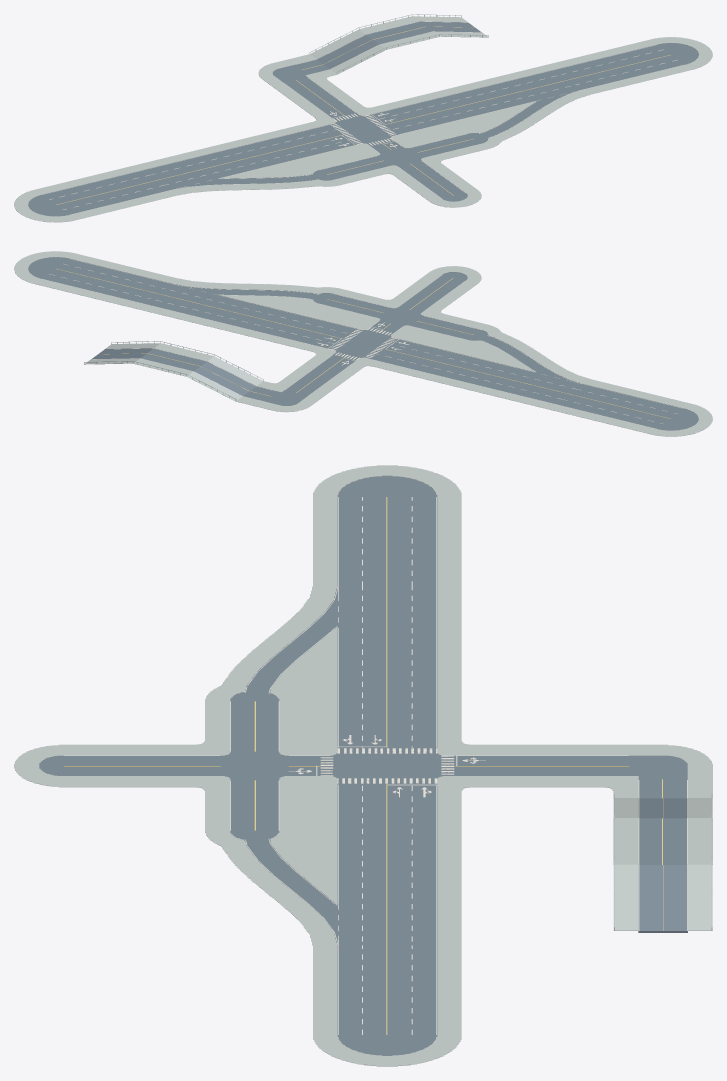
The model's file is network-w59-s59.glb.
3 views of the same model, one above another, from view 1: azimuth 30°, elevation 25°; view 2: azimuth 150°, elevation 25°; view 3: azimuth 270°, elevation 25° (orthographic). The views are drawn at different scales.
Parts seen in each view (by area): view 1: Road_surface, Sidewalks, Lane_markings, Ramp_surface, Crosswalks, Bridge_railings; view 2: Road_surface, Sidewalks, Lane_markings, Ramp_surface, Crosswalks, Bridge_railings; view 3: Road_surface, Sidewalks, Lane_markings, Ramp_surface, Crosswalks.
Part boxes in pixels (x1=…): Road_surface: x1=28, y1=22, x2=698, y2=216; Sidewalks: x1=14, y1=16, x2=712, y2=222; Lane_markings: x1=42, y1=21, x2=684, y2=214; Ramp_surface: x1=317, y1=21, x2=481, y2=68; Crosswalks: x1=329, y1=113, x2=396, y2=145; Bridge_railings: x1=309, y1=14, x2=488, y2=73; Road_surface: x1=28, y1=257, x2=698, y2=430; Sidewalks: x1=14, y1=251, x2=712, y2=436; Lane_markings: x1=44, y1=259, x2=683, y2=428; Ramp_surface: x1=91, y1=348, x2=256, y2=395; Crosswalks: x1=329, y1=327, x2=397, y2=360; Bridge_railings: x1=84, y1=341, x2=263, y2=400; Road_surface: x1=39, y1=476, x2=687, y2=1055; Sidewalks: x1=14, y1=465, x2=712, y2=1066; Lane_markings: x1=64, y1=497, x2=687, y2=1034; Ramp_surface: x1=638, y1=798, x2=687, y2=932; Crosswalks: x1=320, y1=748, x2=454, y2=783.
Size of the model in its own units: 335 by 7.51 by 165.
